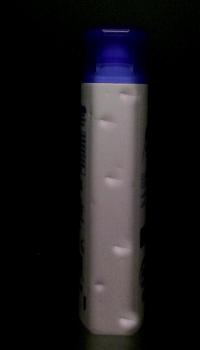dent_unacceptable: (102, 166, 130, 190), (116, 313, 144, 336), (112, 237, 136, 260), (94, 109, 120, 130), (88, 275, 111, 294), (117, 85, 138, 100)
